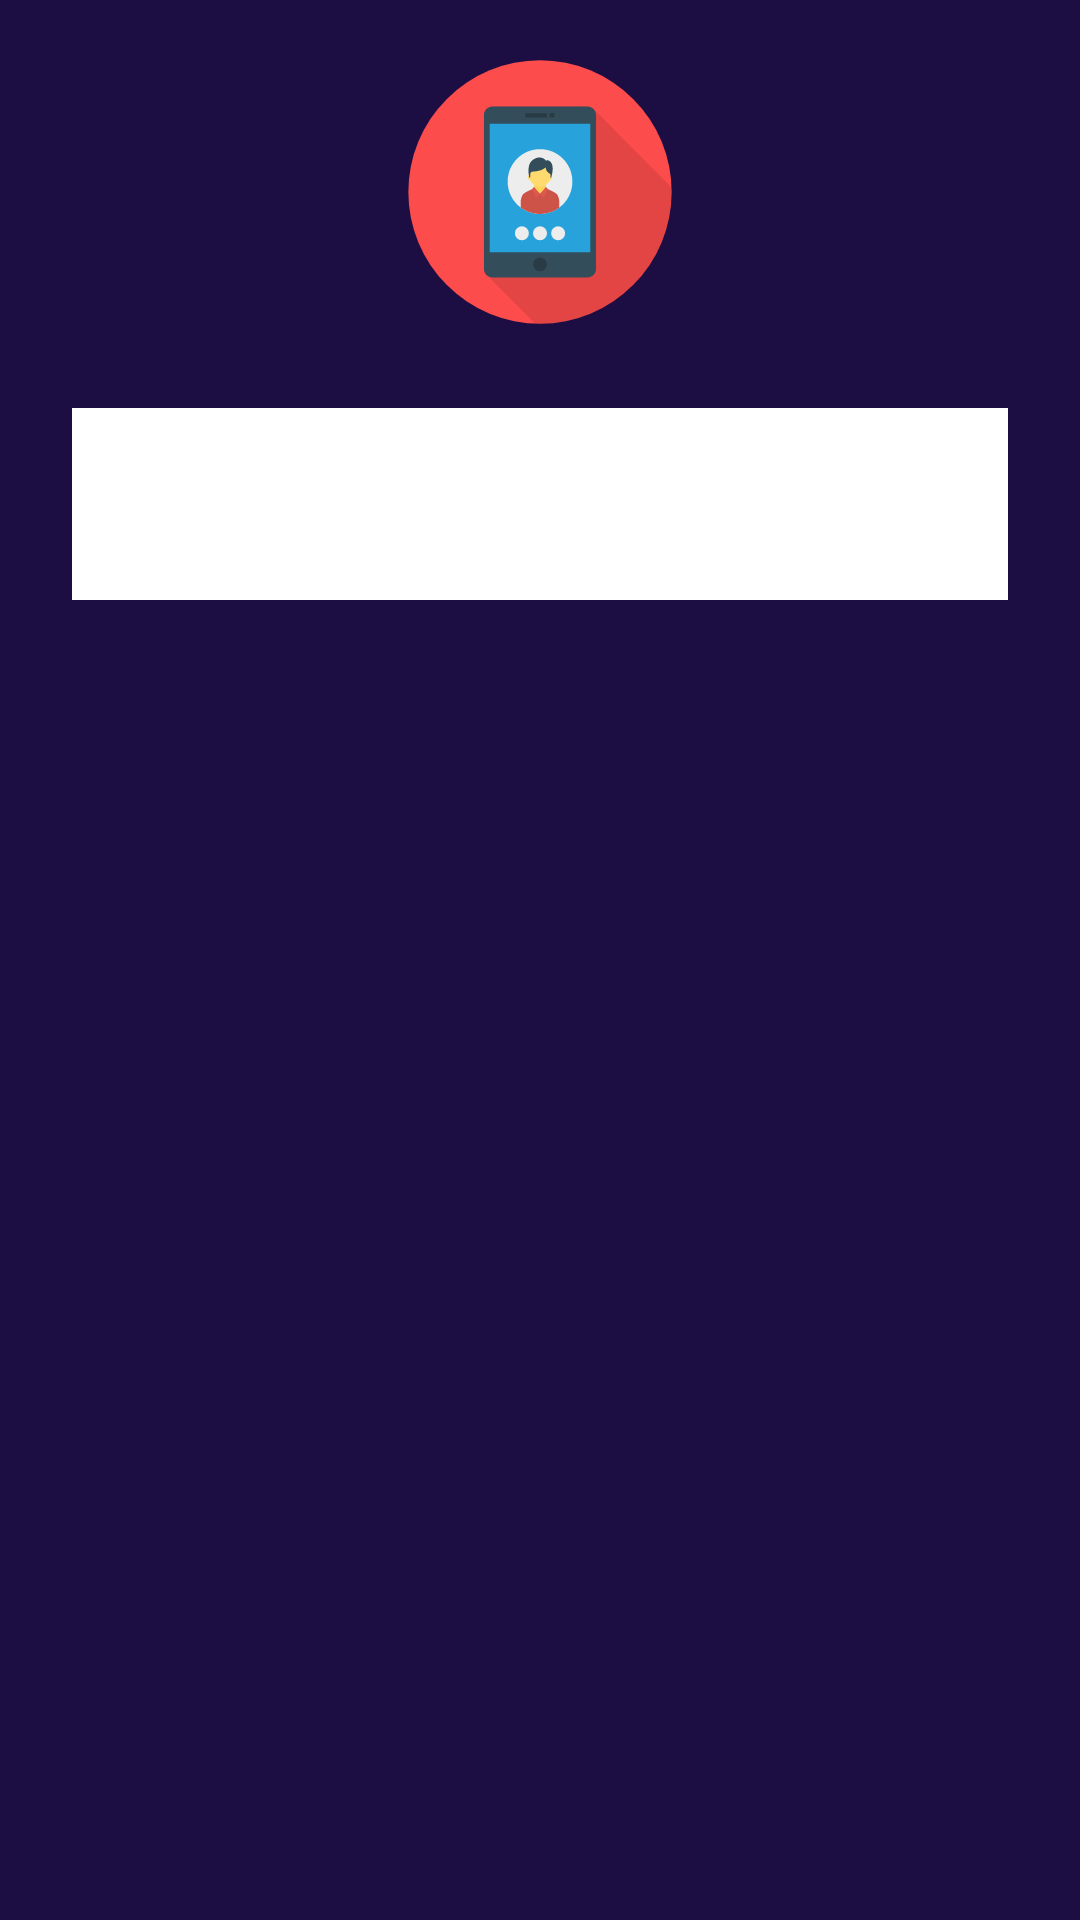

Icon bounding boxes for this 1080x1920 phone screenshot, format [x1,y1,x2,y2]:
login: [408,60,672,324]
